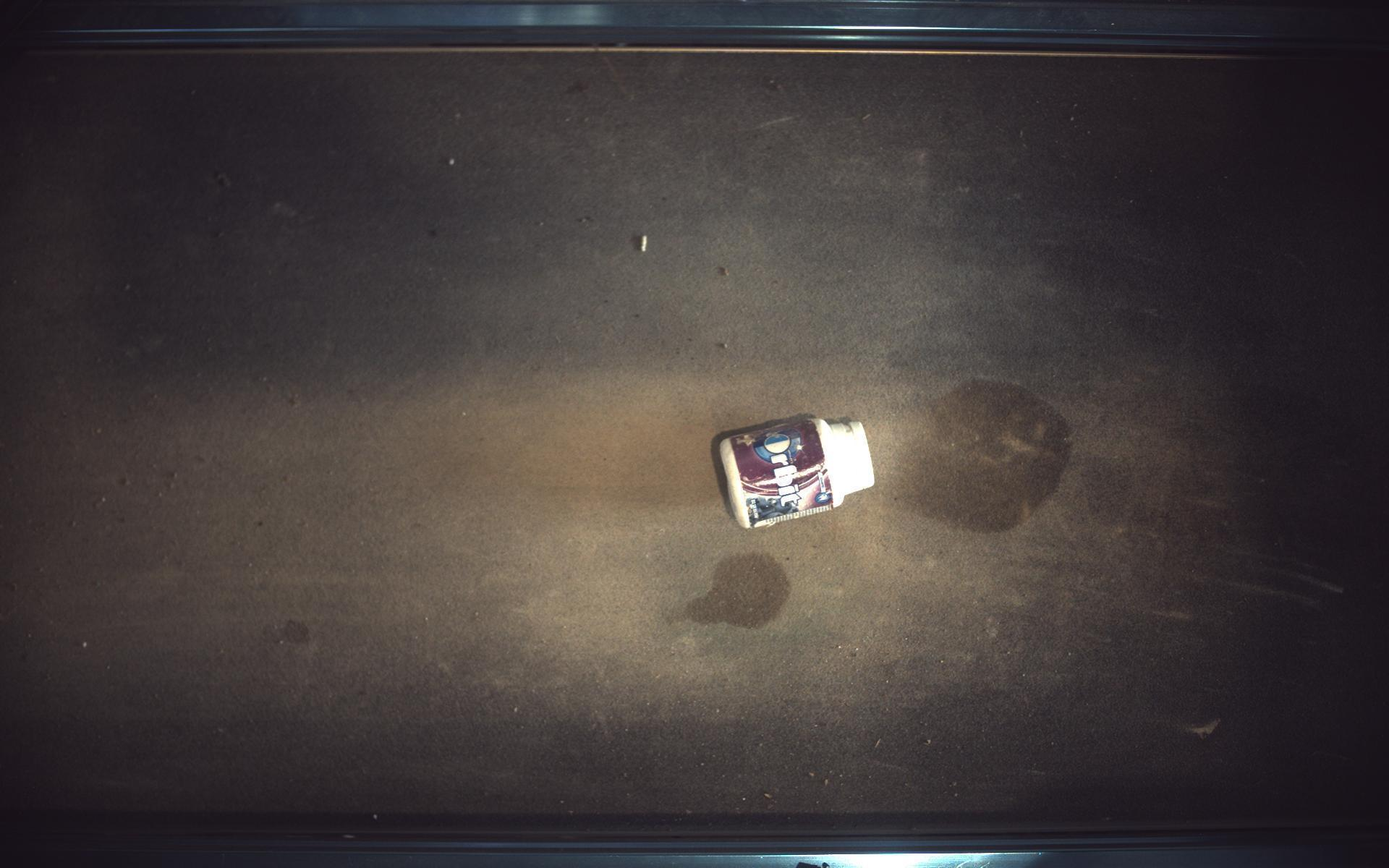general_w: (721, 414, 876, 529)
